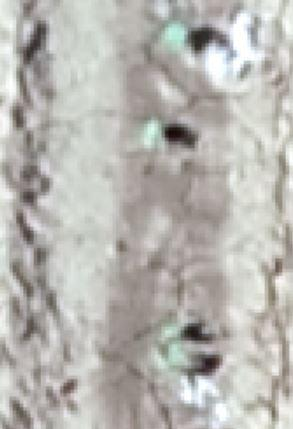cotton: (173, 347, 198, 369), (165, 23, 185, 46), (147, 120, 162, 140), (164, 324, 181, 340)
